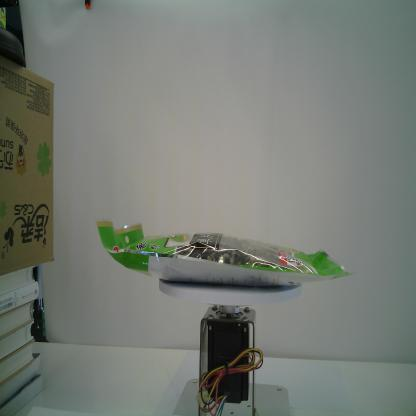Dried Food: (89, 213, 357, 288)
